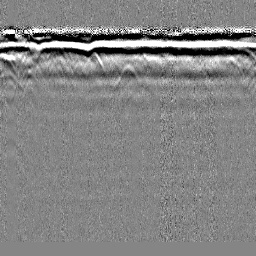cavity: (116, 62, 141, 86)
